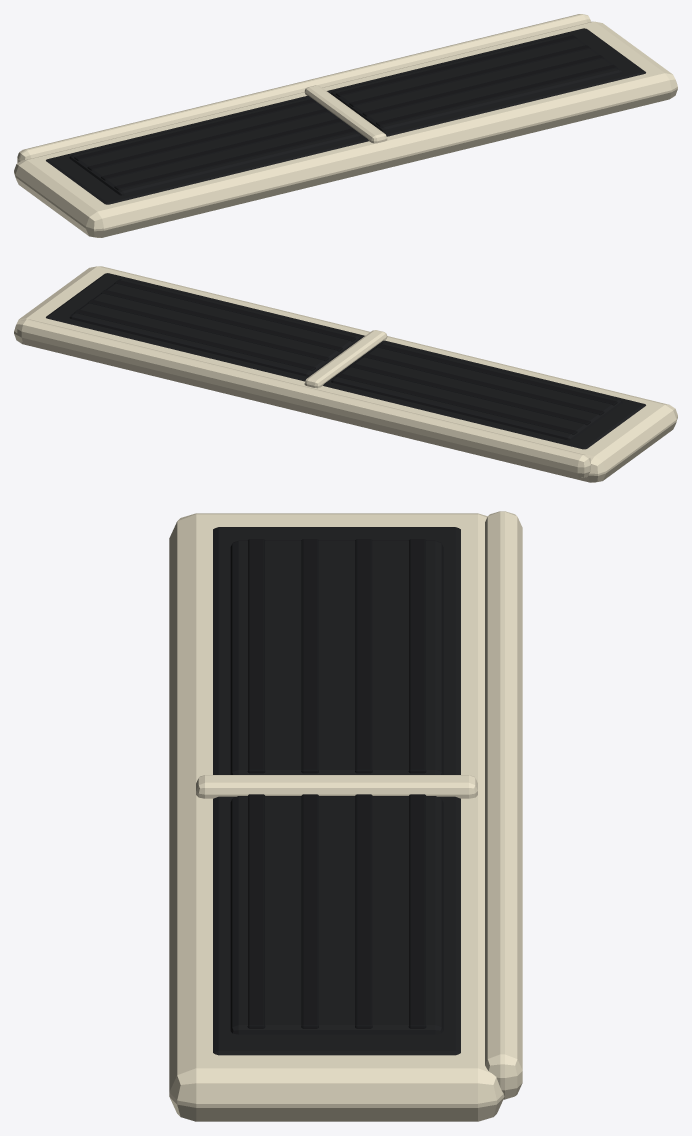
Rendered from hood_urnieta_salado.glb.
The picture shows the model from 3 angles, top to bottom: view 1: azimuth 30°, elevation 25°; view 2: azimuth 150°, elevation 25°; view 3: azimuth 270°, elevation 25°; orthographic projection. The views are drawn at different scales.
Visible parts, largest first — view 1: surround.002, slot0.002, slot1.002, well, lip.007, rib, fin03, fin01, fin12.012, fin11.012, fin02, fin00 (+2 smaller); view 2: lip.007, surround.002, slot0.002, slot1.002, well, rib, fin01, fin13.012, fin11.012, fin02, fin12.012, fin10.012 (+2 smaller); view 3: surround.002, slot1.002, slot0.002, well, lip.007, rib, fin12.012, fin11.012, fin02, fin01, fin10.012, fin13.012 (+2 smaller).
Part boxes in pixels (x1=…): surround.002: x1=14, y1=21, x2=677, y2=237; slot0.002: x1=69, y1=98, x2=360, y2=195; slot1.002: x1=331, y1=34, x2=622, y2=131; well: x1=46, y1=28, x2=645, y2=204; lip.007: x1=17, y1=14, x2=590, y2=162; rib: x1=304, y1=85, x2=387, y2=143; fin03: x1=114, y1=128, x2=355, y2=190; fin01: x1=87, y1=109, x2=329, y2=170; fin12.012: x1=362, y1=55, x2=604, y2=116; fin11.012: x1=349, y1=45, x2=590, y2=106; fin02: x1=101, y1=118, x2=342, y2=180; fin00: x1=74, y1=99, x2=315, y2=160; lip.007: x1=17, y1=319, x2=591, y2=477; surround.002: x1=14, y1=266, x2=677, y2=482; slot0.002: x1=331, y1=342, x2=622, y2=440; slot1.002: x1=69, y1=278, x2=360, y2=376; well: x1=46, y1=273, x2=645, y2=449; rib: x1=304, y1=330, x2=387, y2=388; fin01: x1=349, y1=363, x2=590, y2=425; fin13.012: x1=114, y1=280, x2=356, y2=341; fin11.012: x1=88, y1=299, x2=329, y2=361; fin02: x1=363, y1=353, x2=604, y2=415; fin12.012: x1=101, y1=290, x2=342, y2=351; fin10.012: x1=74, y1=309, x2=315, y2=371; surround.002: x1=169, y1=513, x2=504, y2=1121; slot1.002: x1=230, y1=796, x2=443, y2=1034; slot0.002: x1=230, y1=540, x2=443, y2=774; well: x1=213, y1=527, x2=460, y2=1055; lip.007: x1=485, y1=511, x2=522, y2=1099; rib: x1=196, y1=775, x2=477, y2=798; fin12.012: x1=301, y1=794, x2=318, y2=1028; fin11.012: x1=355, y1=794, x2=372, y2=1028; fin02: x1=301, y1=539, x2=318, y2=773; fin01: x1=355, y1=539, x2=372, y2=773; fin10.012: x1=408, y1=794, x2=426, y2=1028; fin13.012: x1=247, y1=794, x2=265, y2=1028.
Bounding box in the file's own units: 0.61 × 0.032 × 0.158.
